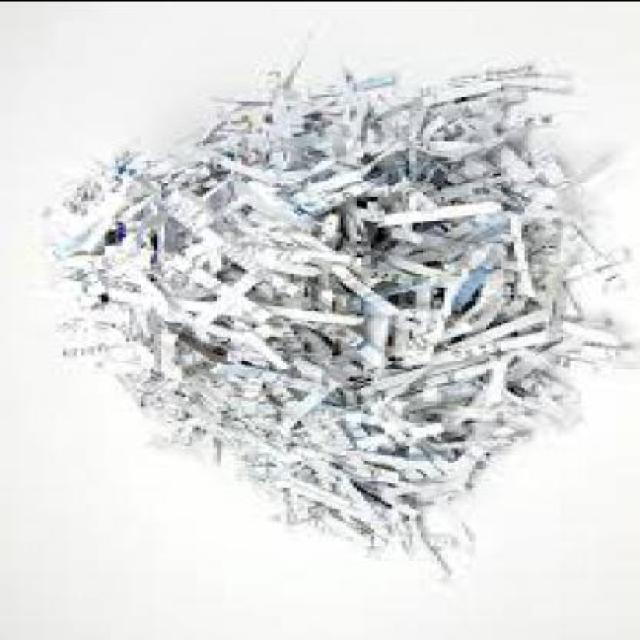PAPER: (31, 51, 637, 577)
